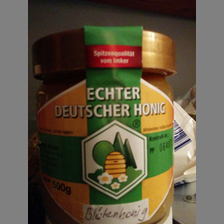honey: (28, 26, 178, 224)
